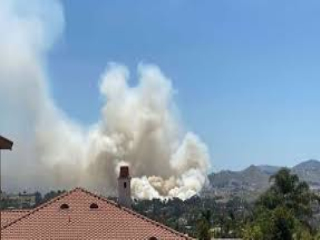smoke: (72, 60, 212, 197)
